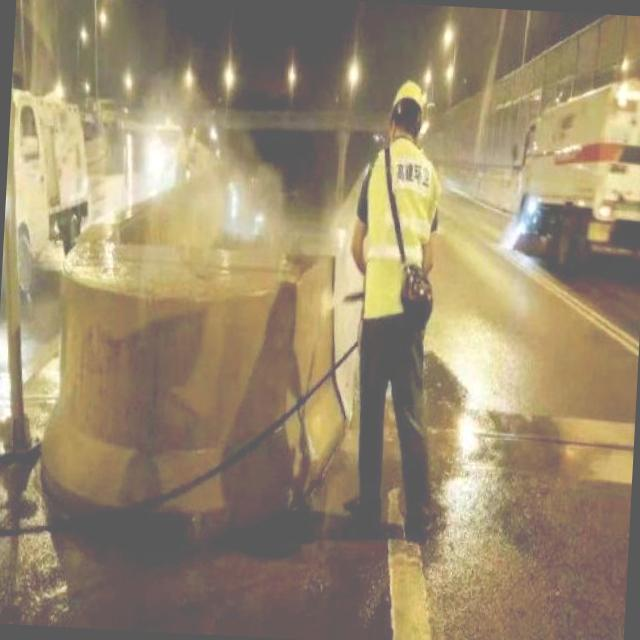vest: (358, 139, 444, 322)
